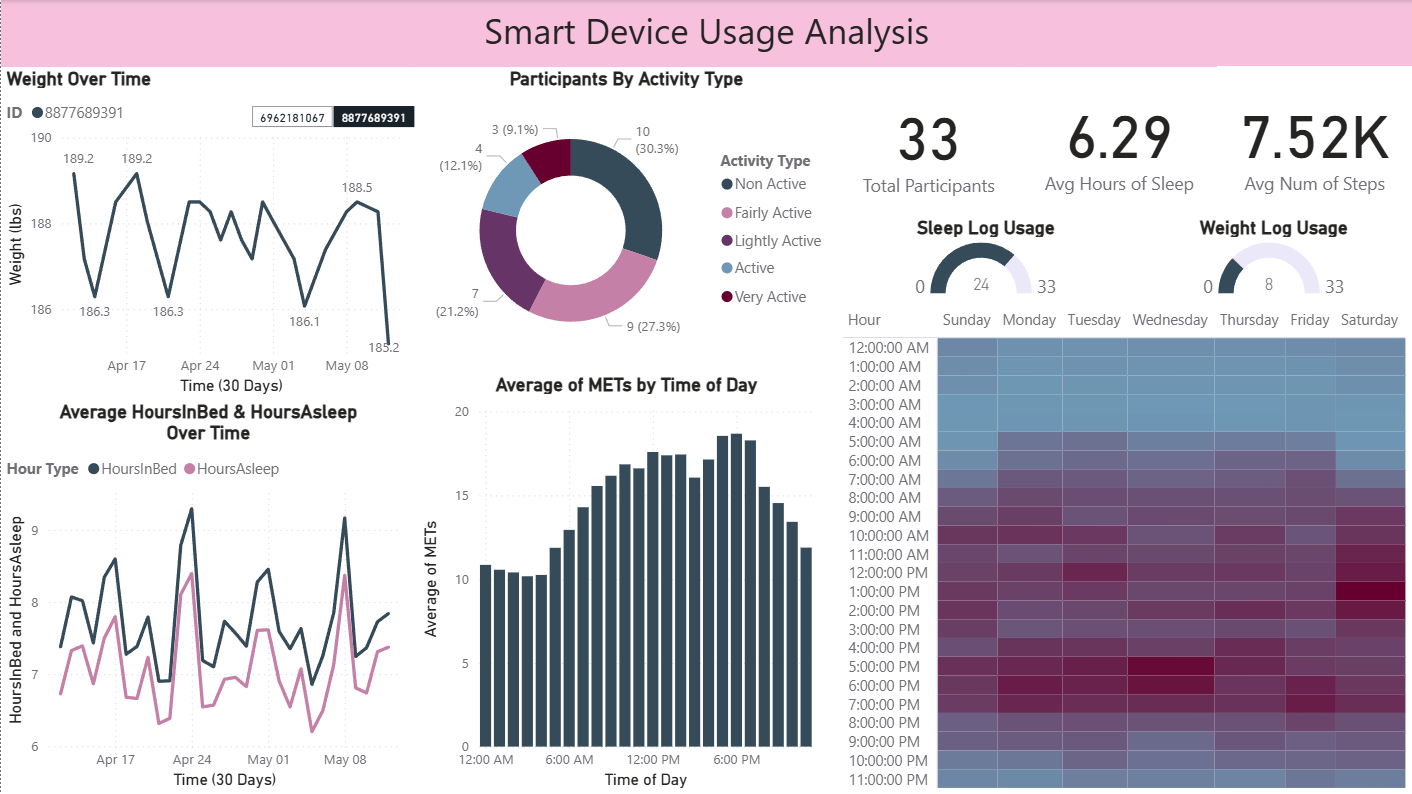

This screenshot's page, from the dashboard's own definition file:
{"tool":"powerbi","page":{"name":"Page 1","canvas":[1280,720],"ordinal":0},"visuals":[{"type":"textbox","box":[0,0,1280,60.9],"z":0},{"type":"lineChart","title":"Weight Over Time","fields":{"Category":["weight_over_time.logdate"],"Series":["weight_over_time.id"],"Y":["Avg(weight_over_time.weightpounds)"]},"box":[0,60.9,376.4,301.8],"z":1000},{"type":"advancedSlicerVisual","fields":{"Values":["weight_over_time.id"]},"box":[226.6,95.3,149.8,21.4],"z":2000},{"type":"lineChart","title":"Average HoursInBed & HoursAsleep Over Time ","fields":{"Category":["sleep_over_time.sleepday"],"Y":["Avg(sleep_over_time.totalhoursinbed)","Avg(sleep_over_time.totalhoursasleep)"]},"box":[0,372.7,376.4,347.3],"z":3000},{"type":"donutChart","title":"Participants By Activity Type","fields":{"Category":["categorized_user_activity.activity_type"],"Y":["Sum(categorized_user_activity.total)"]},"box":[376.4,60.9,381.8,277.3],"z":4000},{"type":"card","fields":{"Values":["Sum(categorized_user_activity.total)"]},"box":[758.2,60.9,166.4,134.5],"z":5000},{"type":"columnChart","fields":{"Category":["METs_avg.ActivityMinute"],"Y":["Avg(METs_avg.METs)"]},"box":[376.4,338.2,381.8,381.8],"z":6000},{"type":"pivotTable","fields":{"Rows":["METS_3.Hour"],"Values":["Avg(METS_3.METs)"],"Columns":["METS_3.Day"]},"box":[758.2,275.5,521.8,444.5],"z":7000},{"type":"gauge","title":"Sleep Log Usage","fields":{"Y":["Sum(sleep_log_usage.user_count)"],"MaxValue":["Sum(categorized_user_activity.total)"]},"box":[758.2,195.5,270,80],"z":8000},{"type":"gauge","title":"Weight Log Usage","fields":{"Y":["Sum(weight_log_usage.user_count)"],"MaxValue":["Sum(categorized_user_activity.total)"]},"box":[1028.2,195.5,251.8,80],"z":9000},{"type":"card","fields":{"Values":["Avg(kpi_2_avg_sleep_per_Id.avg_sleep)"]},"box":[924.5,60.9,178.2,134.5],"z":10000},{"type":"card","fields":{"Values":["Avg(dailySteps.StepTotal)"]},"box":[1102.7,60,177.3,135.5],"z":11000}]}

Visuals, with their boxes in screenshot pixels (x1, y1, x2, y2), scaled from the page's 1280x720 canvas onto the 1412x794 screenshot:
textbox: crop(0, 0, 1411, 67)
"Weight Over Time" lineChart: crop(0, 67, 415, 400)
advancedSlicerVisual - weight_over_time.id: crop(250, 105, 415, 129)
"Average HoursInBed & HoursAsleep Over Time " lineChart: crop(0, 411, 415, 793)
"Participants By Activity Type" donutChart: crop(415, 67, 836, 373)
card - Sum(categorized_user_activity.total): crop(836, 67, 1020, 215)
columnChart - METs_avg.ActivityMinute x Avg(METs_avg.METs): crop(415, 373, 836, 793)
pivotTable - METS_3.Hour x Avg(METS_3.METs): crop(836, 304, 1411, 793)
"Sleep Log Usage" gauge: crop(836, 216, 1134, 304)
"Weight Log Usage" gauge: crop(1134, 216, 1411, 304)
card - Avg(kpi_2_avg_sleep_per_Id.avg_sleep): crop(1020, 67, 1216, 215)
card - Avg(dailySteps.StepTotal): crop(1216, 66, 1411, 216)
